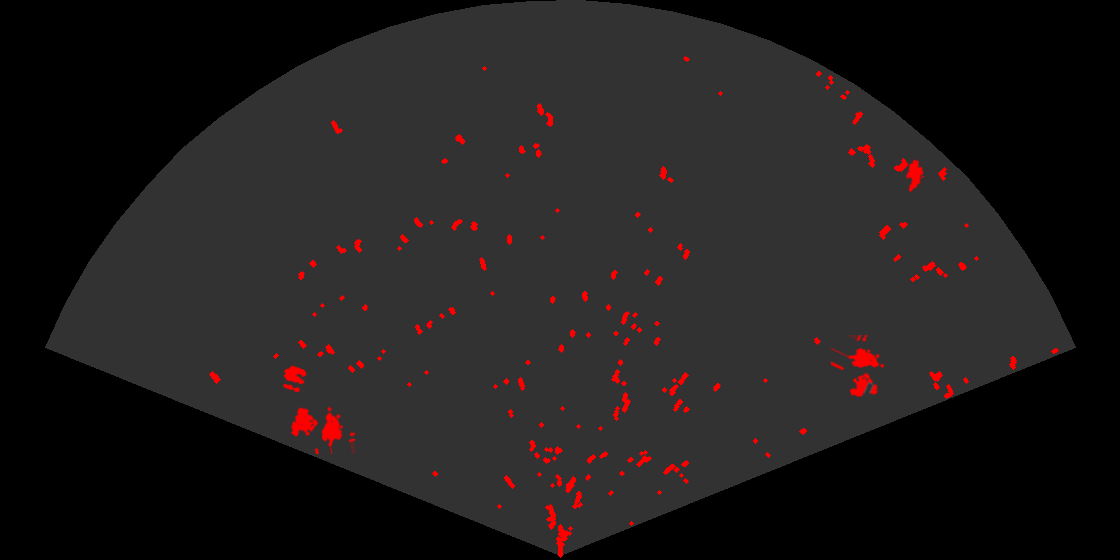AUV: (904, 158, 925, 194)
ball: (281, 364, 309, 394)
cage: (831, 335, 886, 399), (289, 405, 355, 454)
